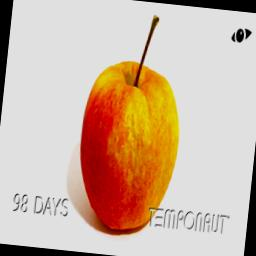Apple Ripe: (70, 0, 193, 236)
